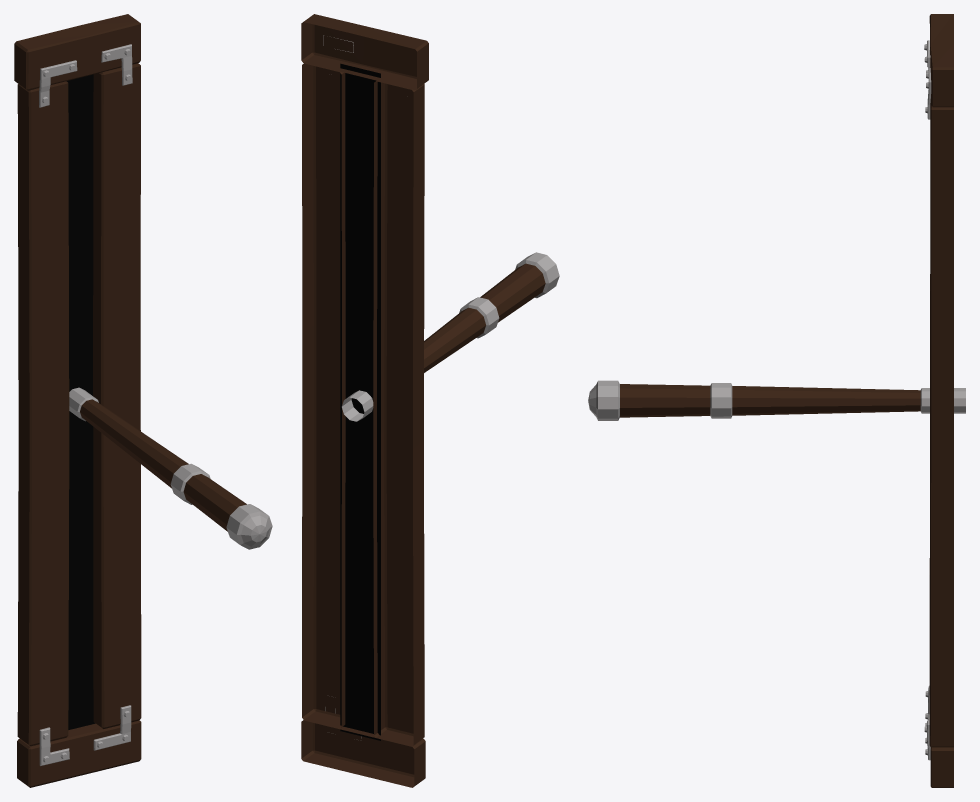
The model's file is WoodenWallLever_2.fbx.
3 views of the same model, side by side, from view 1: azimuth 30°, elevation 25°; view 2: azimuth 150°, elevation 25°; view 3: azimuth 270°, elevation 25° (orthographic). The views are drawn at different scales.
Visible parts, largest first — view 1: WoodenWallLever_2_Casing, WoodenWallLever_2_Handle; view 2: WoodenWallLever_2_Casing, WoodenWallLever_2_Handle; view 3: WoodenWallLever_2_Casing, WoodenWallLever_2_Handle.
Boxes of the visible parts, box(x1,y1,x2,y2) form: WoodenWallLever_2_Casing: box(14, 14, 141, 787); WoodenWallLever_2_Handle: box(69, 387, 272, 549); WoodenWallLever_2_Casing: box(301, 14, 428, 787); WoodenWallLever_2_Handle: box(342, 252, 559, 421); WoodenWallLever_2_Casing: box(924, 14, 953, 787); WoodenWallLever_2_Handle: box(588, 380, 965, 420).
Bounding box in the file's own units: 18.45 × 113 × 53.46.
